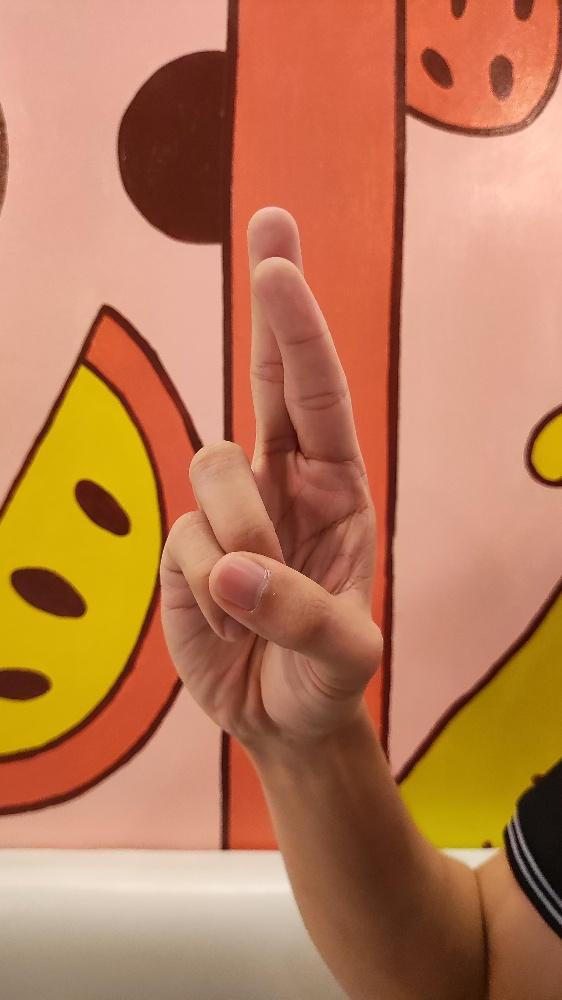r: (156, 203, 384, 741)
